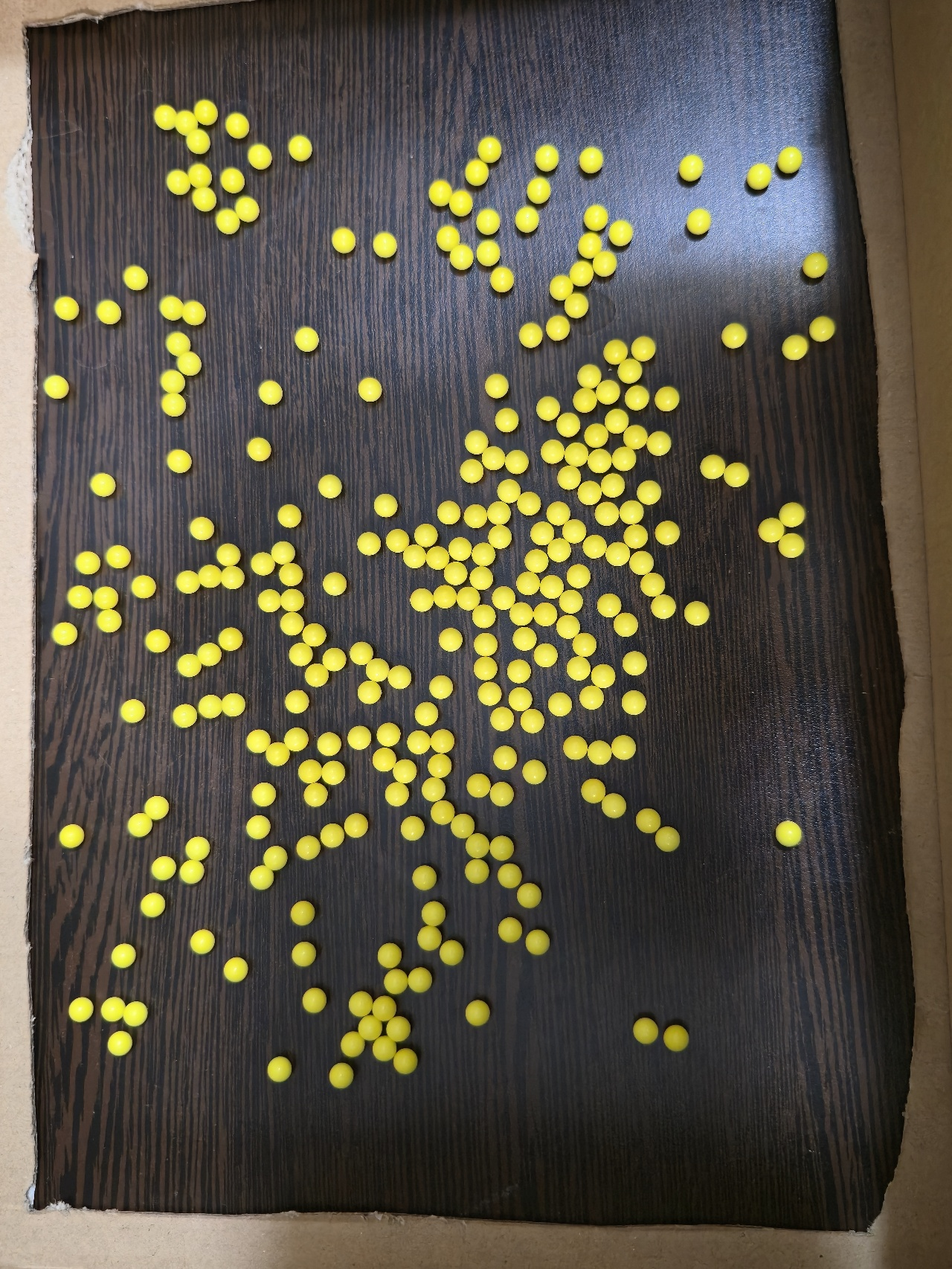yellow_bead: (160, 113, 204, 148), (443, 234, 468, 264), (172, 338, 195, 370), (165, 301, 199, 319), (166, 376, 179, 392), (167, 394, 179, 411), (127, 1007, 141, 1021), (782, 827, 796, 841), (788, 341, 802, 354), (614, 226, 627, 240), (204, 701, 219, 713), (599, 256, 611, 271), (482, 245, 494, 260), (202, 571, 218, 582), (533, 182, 544, 198), (185, 865, 198, 878), (785, 539, 798, 552), (692, 215, 705, 228), (785, 509, 799, 521), (631, 391, 643, 405), (583, 370, 595, 384), (300, 332, 312, 346), (815, 323, 829, 335), (496, 272, 508, 286), (482, 215, 494, 229), (222, 214, 234, 228), (240, 202, 252, 216), (753, 170, 765, 184), (685, 161, 697, 175), (585, 153, 597, 167), (294, 141, 306, 155), (181, 577, 196, 588), (256, 871, 268, 884), (178, 710, 191, 722), (690, 608, 703, 620), (765, 524, 778, 536), (730, 469, 743, 481), (510, 456, 523, 468), (594, 454, 606, 467), (617, 453, 630, 465), (653, 437, 665, 450), (611, 415, 623, 428), (579, 393, 591, 406), (602, 386, 614, 399), (264, 386, 276, 399), (624, 365, 636, 378), (570, 299, 582, 312), (129, 272, 142, 284), (576, 267, 588, 280), (57, 629, 71, 640), (73, 592, 87, 603), (338, 233, 349, 247), (254, 150, 265, 164), (114, 1038, 126, 1050), (230, 964, 242, 976), (147, 899, 159, 911), (269, 852, 281, 864), (303, 842, 315, 854), (457, 820, 469, 832), (608, 800, 620, 812), (428, 784, 440, 796), (327, 767, 339, 779), (618, 742, 630, 754), (436, 736, 448, 748), (353, 732, 365, 744), (628, 697, 640, 709), (586, 692, 598, 704), (573, 663, 585, 675), (540, 649, 552, 661), (518, 633, 530, 645), (565, 596, 577, 608), (462, 593, 474, 605), (647, 579, 659, 591), (475, 572, 487, 584), (225, 571, 237, 583), (277, 547, 289, 559), (553, 544, 565, 556), (493, 507, 505, 519), (523, 498, 535, 510), (584, 487, 596, 499), (643, 486, 655, 498), (607, 480, 619, 492), (707, 461, 719, 473), (488, 452, 500, 464), (570, 449, 582, 461), (629, 431, 641, 443), (562, 419, 574, 431), (661, 393, 673, 405), (610, 346, 622, 358), (637, 342, 649, 354), (729, 330, 741, 342), (525, 329, 537, 341), (102, 306, 114, 318), (60, 303, 72, 315), (198, 193, 210, 205), (274, 1063, 285, 1076), (196, 937, 209, 948), (157, 863, 170, 874), (191, 844, 204, 855), (133, 820, 146, 831), (183, 660, 196, 671), (264, 595, 277, 606), (545, 582, 558, 593), (611, 549, 624, 560), (495, 530, 506, 543), (96, 480, 109, 491), (471, 436, 482, 449), (809, 261, 822, 272), (379, 238, 390, 251), (172, 176, 183, 189), (783, 156, 796, 167), (298, 948, 309, 960), (504, 925, 515, 937), (504, 870, 515, 882), (65, 831, 77, 842), (407, 823, 418, 835), (252, 822, 264, 833), (350, 820, 361, 832), (150, 803, 162, 814), (258, 789, 270, 800), (496, 788, 507, 800), (391, 788, 402, 800), (529, 766, 540, 778), (594, 747, 605, 759), (570, 742, 581, 754), (413, 737, 425, 748), (126, 706, 138, 717), (483, 689, 495, 700), (435, 682, 447, 693), (393, 672, 405, 683), (597, 671, 609, 682), (513, 666, 524, 678), (629, 658, 641, 669), (202, 649, 214, 660), (579, 640, 591, 651), (445, 635, 457, 646), (286, 618, 298, 629), (515, 609, 527, 620), (658, 601, 669, 613), (523, 578, 535, 589), (573, 571, 585, 582), (636, 558, 648, 569), (409, 551, 421, 562), (111, 551, 123, 562), (222, 550, 234, 561), (477, 550, 489, 561), (454, 544, 466, 555), (589, 542, 601, 553), (631, 530, 642, 542), (662, 528, 674, 539), (569, 526, 580, 538), (601, 509, 613, 520), (625, 507, 637, 518), (503, 486, 515, 497), (324, 481, 336, 492), (564, 471, 575, 483), (466, 465, 477, 477), (173, 455, 184, 467), (547, 446, 559, 457), (501, 414, 512, 426), (542, 402, 553, 414), (364, 385, 376, 396), (492, 380, 503, 392), (553, 321, 564, 333), (226, 175, 237, 187), (74, 1003, 84, 1016), (226, 700, 239, 710), (102, 616, 115, 626), (285, 595, 298, 605), (81, 558, 94, 568), (304, 768, 318, 777), (118, 951, 129, 962), (419, 873, 430, 884), (472, 841, 483, 852), (662, 834, 673, 845), (327, 830, 338, 841), (399, 766, 410, 777), (499, 753, 510, 764), (324, 739, 335, 750), (252, 736, 263, 747), (290, 734, 301, 745), (527, 716, 538, 727), (496, 714, 507, 725), (421, 709, 432, 720), (515, 694, 526, 705), (364, 687, 375, 698), (480, 663, 491, 674), (295, 649, 306, 660), (225, 634, 236, 645), (563, 622, 574, 633), (620, 620, 631, 631), (478, 611, 489, 622), (604, 600, 615, 611), (450, 568, 461, 579), (257, 559, 268, 570), (531, 556, 542, 567), (432, 553, 443, 564), (392, 536, 403, 547), (537, 528, 548, 539), (380, 500, 391, 511), (253, 444, 264, 455), (591, 431, 602, 442), (336, 1070, 346, 1082), (640, 1025, 650, 1037), (107, 1003, 117, 1015), (524, 890, 534, 902), (555, 698, 565, 710), (372, 665, 384, 675), (480, 640, 492, 650), (416, 595, 428, 605), (98, 593, 110, 603), (195, 524, 207, 534), (470, 512, 482, 522), (553, 509, 565, 519), (541, 155, 553, 165), (309, 995, 319, 1006), (414, 975, 424, 986), (532, 937, 542, 948), (428, 909, 438, 920), (643, 817, 654, 827), (310, 791, 321, 801), (473, 781, 484, 791), (383, 730, 393, 741), (291, 697, 302, 707), (311, 671, 322, 681), (329, 654, 339, 665), (356, 649, 367, 659), (540, 610, 551, 620), (498, 594, 509, 604), (136, 582, 147, 592), (329, 579, 339, 590), (285, 569, 296, 579), (364, 539, 374, 550), (420, 531, 431, 541), (284, 511, 295, 521), (443, 508, 454, 518), (51, 381, 61, 392), (390, 976, 399, 988), (472, 865, 481, 877), (439, 594, 451, 603), (556, 280, 563, 295), (584, 242, 594, 252), (347, 1041, 358, 1050), (446, 948, 455, 959), (588, 788, 599, 797), (434, 763, 445, 772), (379, 756, 390, 765), (496, 843, 504, 855), (308, 632, 320, 640), (472, 1009, 482, 1018), (297, 909, 306, 919), (423, 934, 431, 945), (437, 808, 445, 819), (151, 639, 163, 646), (521, 220, 533, 227), (271, 751, 280, 760), (393, 1024, 400, 1035), (384, 950, 390, 962), (355, 1000, 362, 1010), (379, 1047, 387, 1055), (194, 170, 200, 179), (364, 1024, 369, 1034), (593, 211, 599, 219), (400, 1061, 406, 1067), (485, 146, 493, 150), (379, 1007, 384, 1012), (233, 121, 238, 126), (458, 200, 462, 204), (439, 190, 443, 194), (475, 170, 477, 174), (204, 111, 205, 112)
